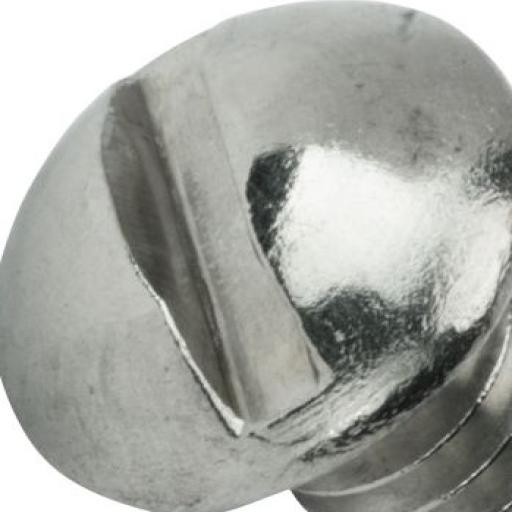Slotted: (0, 1, 511, 512)
